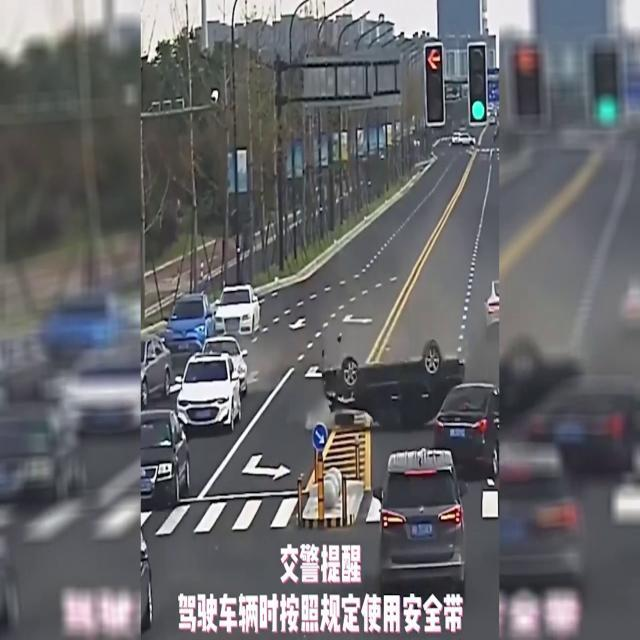accident: (320, 336, 466, 430)
non-accident: (379, 383, 498, 607), (141, 352, 243, 512), (164, 284, 262, 358), (176, 336, 247, 434)
